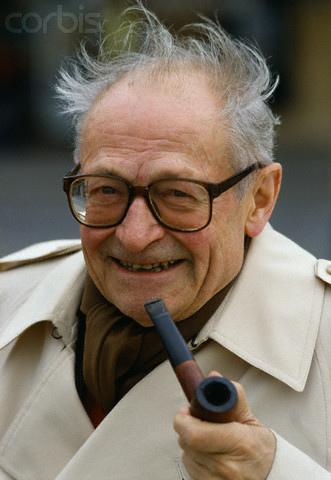trubka: (145, 299, 237, 422)
